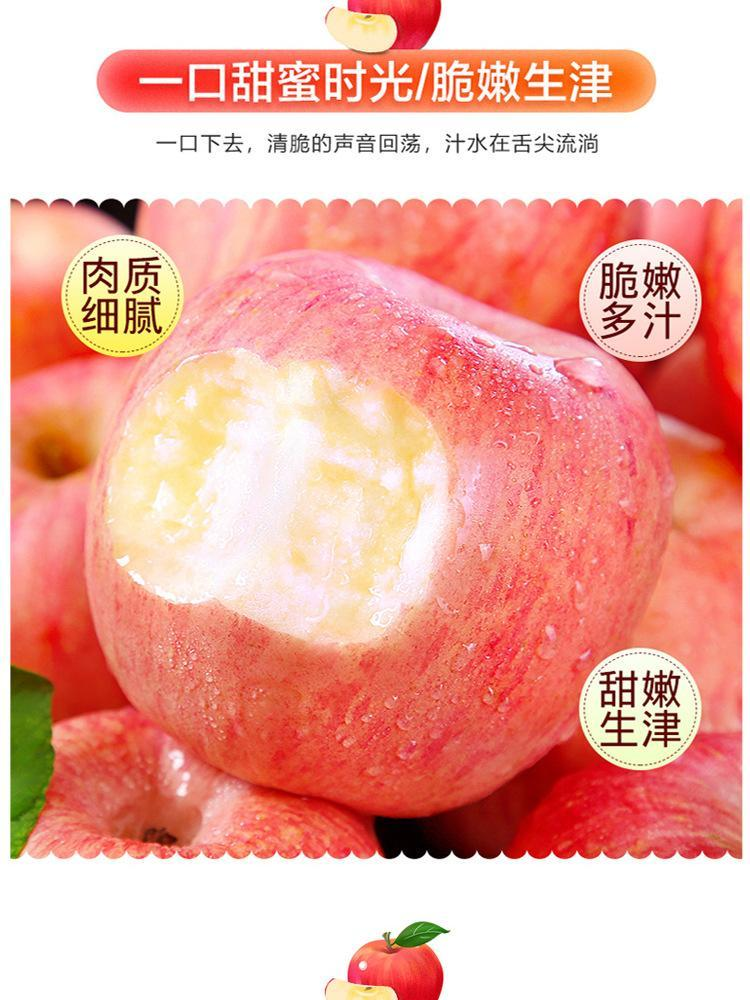apple: (108, 240, 674, 812), (22, 715, 385, 860), (4, 408, 126, 724), (505, 731, 745, 852)
